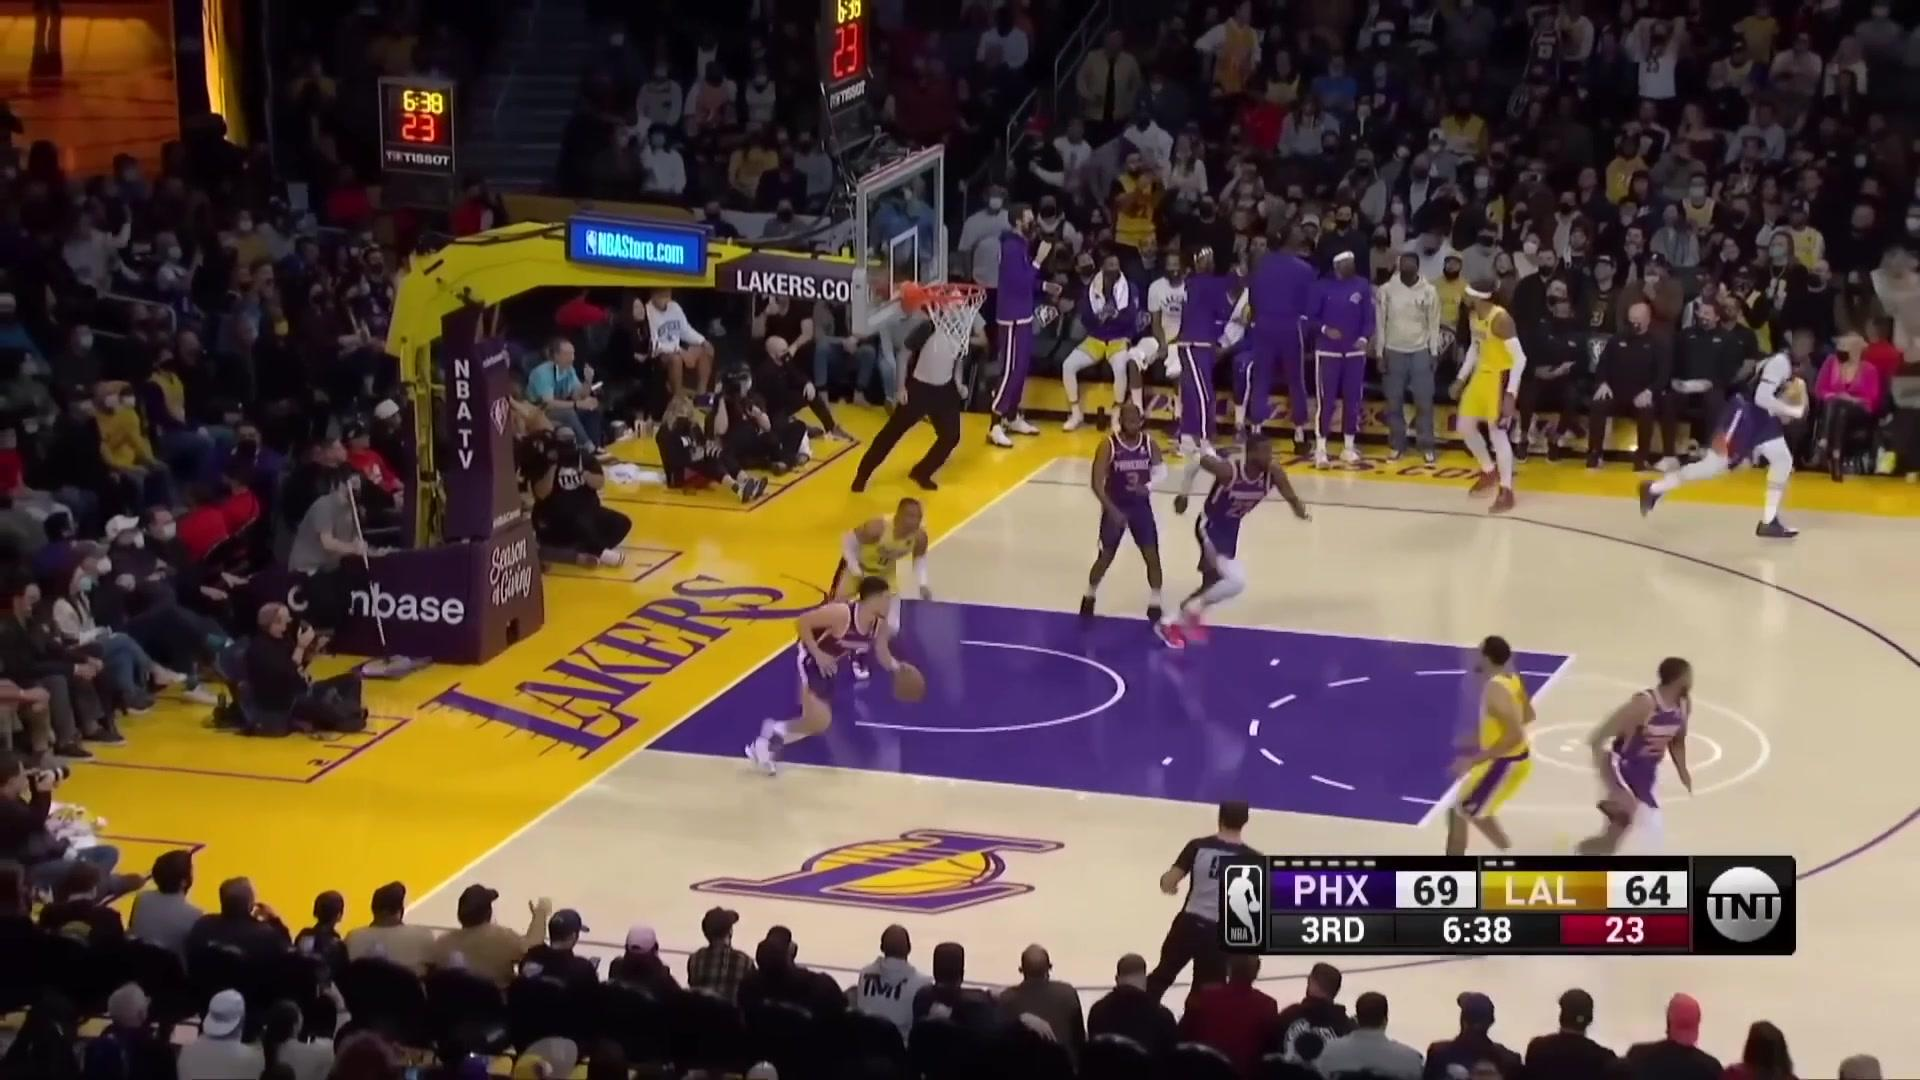no_foul: (782, 492, 934, 765)
